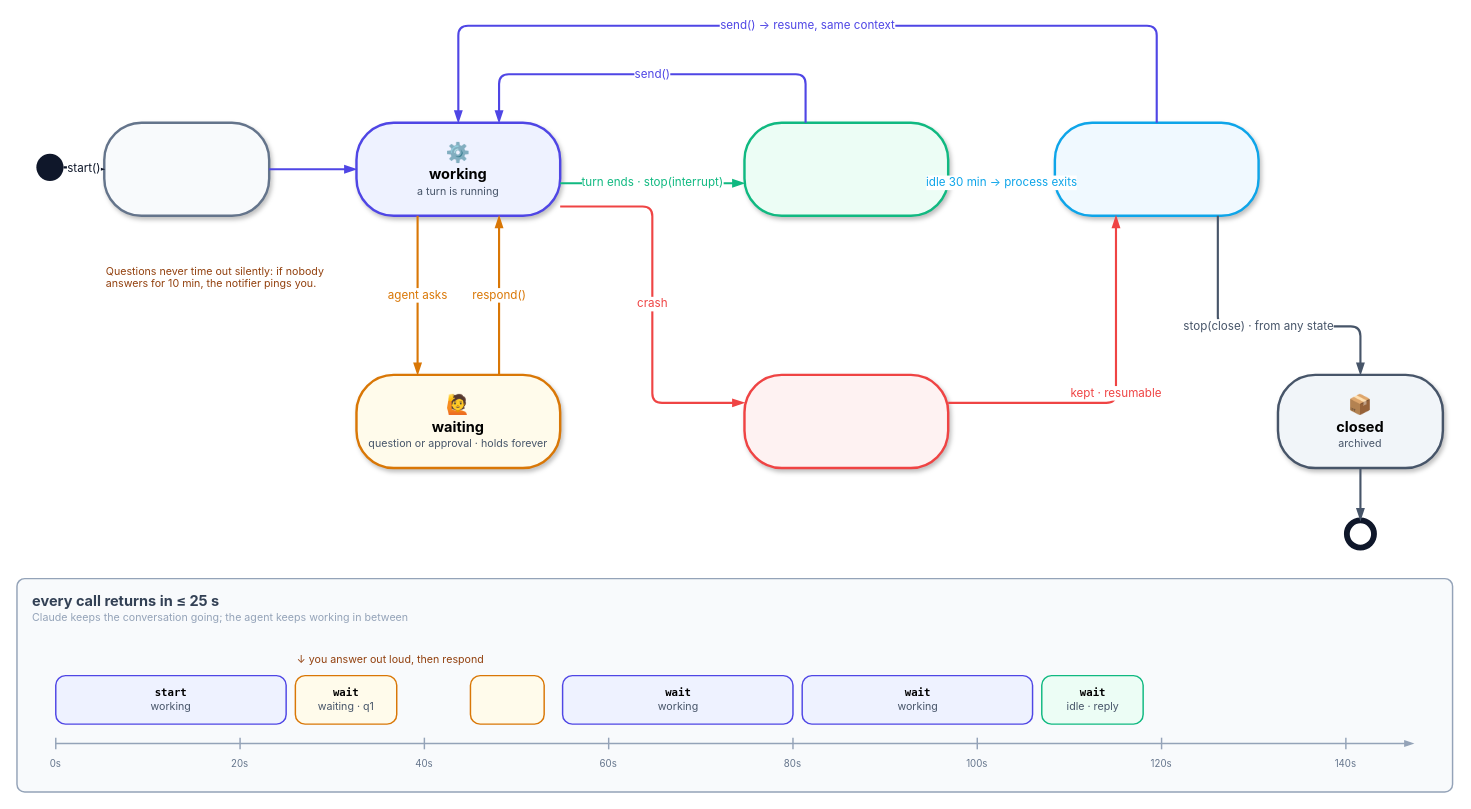
Some shapes in this 1471 by 809 pixel diagram are drawn without their labels. The centre of each missing label's shape, as x and y in pixels:
"respond ok" goes at pixel 506 699.
"🅿️ parked process gone · context on disk" goes at pixel 1157 170.
"💤 idle turn done · process warm" goes at pixel 847 170.
"💥 failed agent crashed or errored" goes at pixel 847 422.
"🚀 starting spawning the agent" goes at pixel 187 170.
